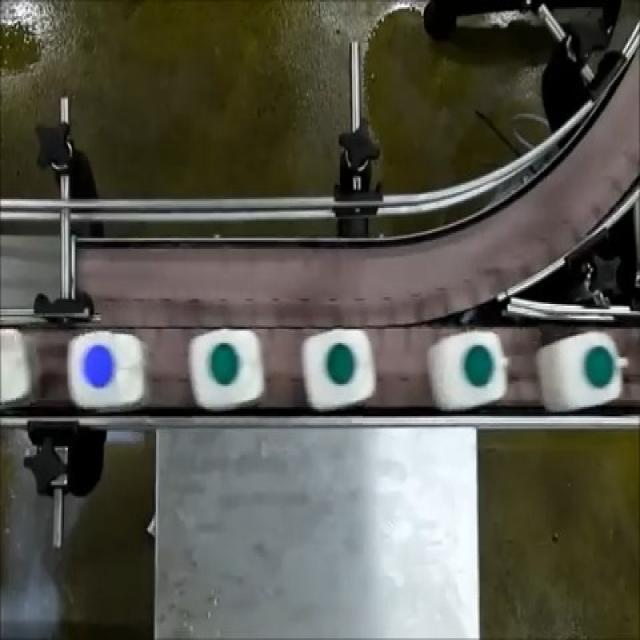milk: (60, 320, 155, 415), (426, 319, 514, 412), (542, 323, 624, 410), (294, 328, 378, 409), (190, 328, 268, 413)
